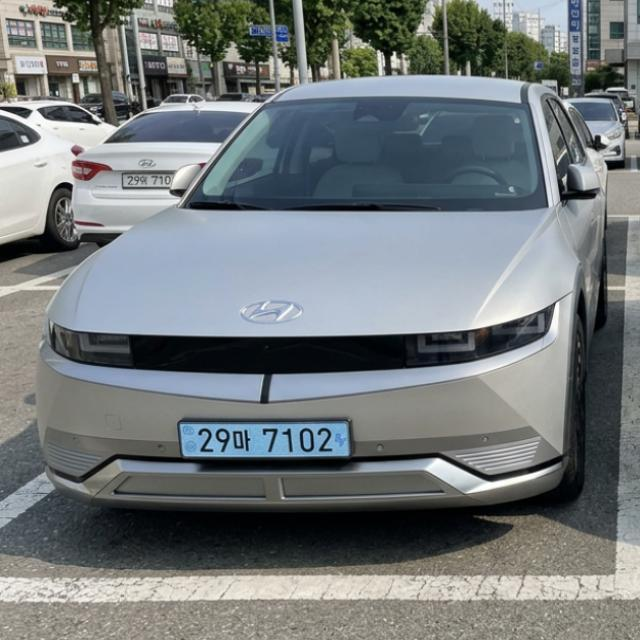car: (166, 411, 379, 473)
carev: (330, 419, 361, 463), (174, 420, 198, 467)
